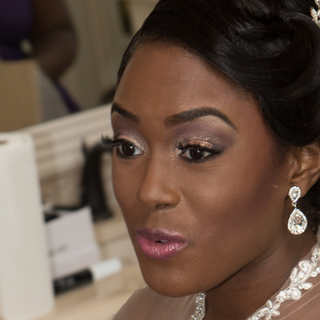eye: (171, 141, 224, 164), (106, 135, 146, 161)
